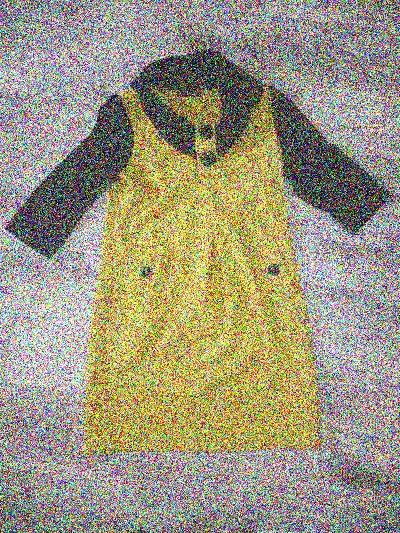Dress: (18, 34, 390, 483)
